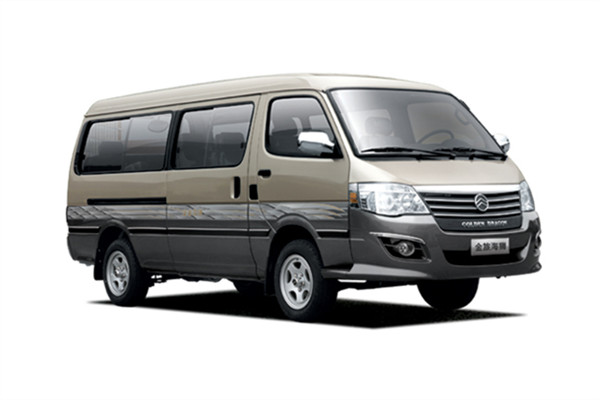midcar: (60, 69, 551, 332)
